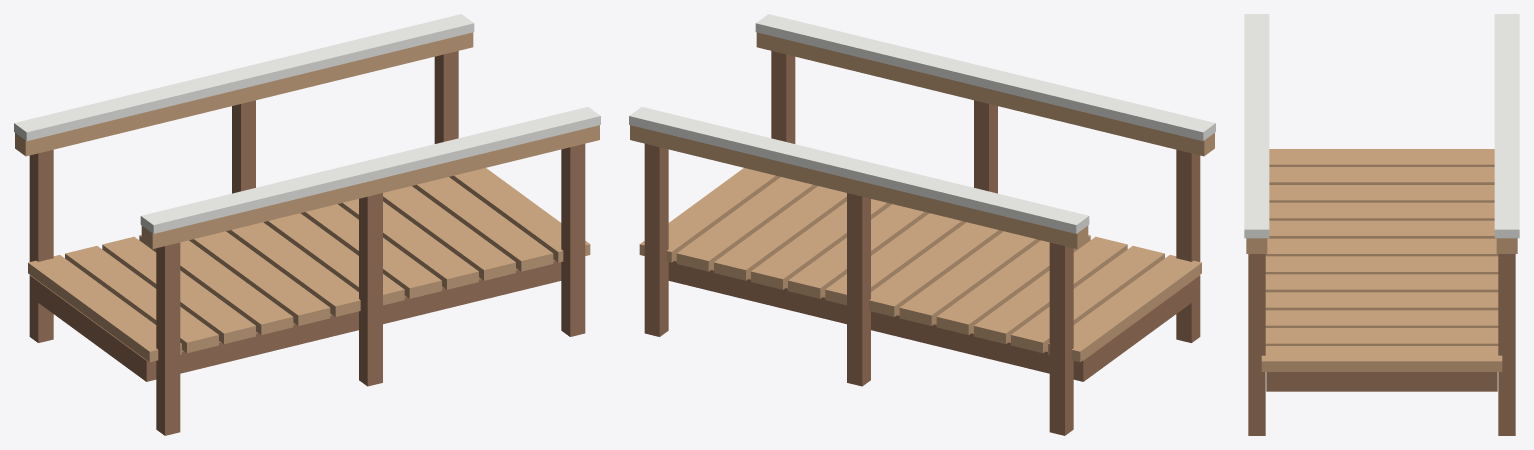
Rendered from winter-hearth-village-snowy-footbridge-2bf9385a__21850.glb.
3 renders of one model, left to right at view 1: azimuth 30°, elevation 25°; view 2: azimuth 150°, elevation 25°; view 3: azimuth 270°, elevation 25°, orthographic.
Parts seen in each view (by area): view 1: snowy-footbridge-cedar, snowy-footbridge-wood, snowy-footbridge-snow; view 2: snowy-footbridge-cedar, snowy-footbridge-wood, snowy-footbridge-snow; view 3: snowy-footbridge-cedar, snowy-footbridge-snow, snowy-footbridge-wood.
Part boxes in pixels (x1,y1,x2,y2): snowy-footbridge-cedar: [15, 32, 599, 362]; snowy-footbridge-wood: [29, 51, 585, 435]; snowy-footbridge-snow: [14, 14, 600, 233]; snowy-footbridge-cedar: [630, 32, 1214, 362]; snowy-footbridge-wood: [644, 51, 1200, 435]; snowy-footbridge-snow: [629, 14, 1215, 233]; snowy-footbridge-cedar: [1246, 149, 1517, 371]; snowy-footbridge-snow: [1244, 14, 1519, 238]; snowy-footbridge-wood: [1248, 254, 1515, 435].
Size of the model in its own units: 2.65 by 1.22 by 1.43.
